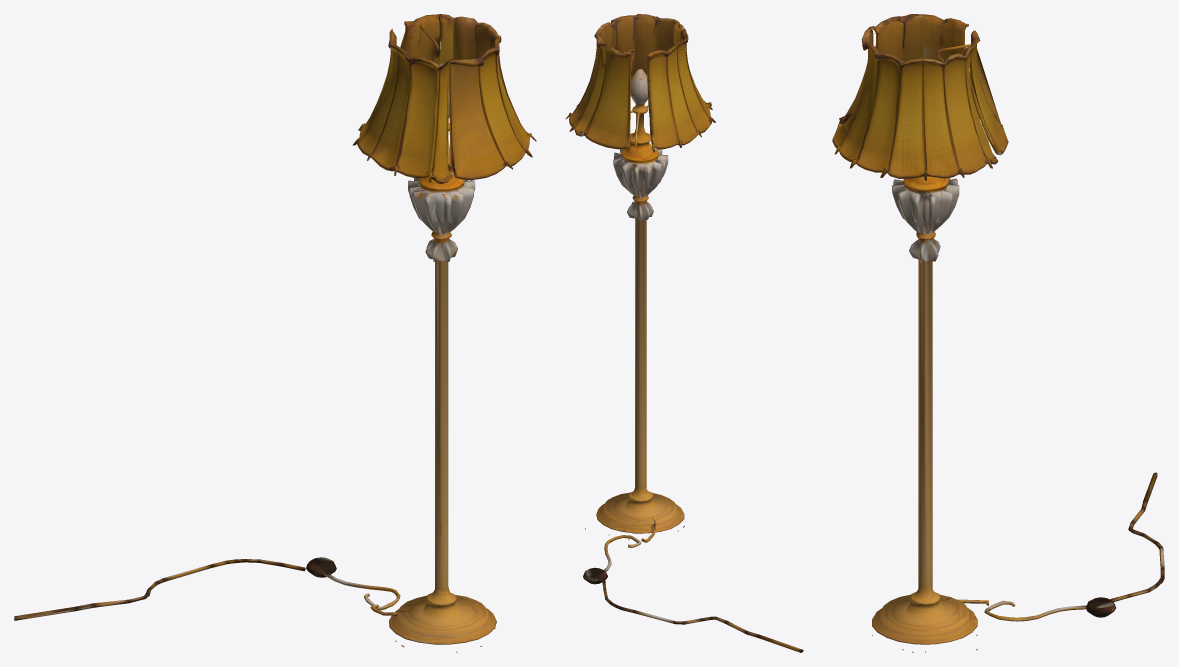
The model's file is lamp.glb.
3 views of the same model, side by side, from view 1: azimuth 30°, elevation 25°; view 2: azimuth 150°, elevation 25°; view 3: azimuth 270°, elevation 25° (orthographic). The views are drawn at different scales.
Visible parts, largest first — view 1: material; view 2: material; view 3: material.
Boxes of the visible parts, box(x1,y1,x2,y2) form: material: box(14, 14, 536, 652); material: box(565, 14, 803, 652); material: box(832, 14, 1164, 652).
Size of the model in its own units: 1.31 by 1.9 by 0.9646.
Materials: 1 (1 with a texture image).
